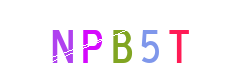5: (99, 0, 179, 80)
B: (83, 0, 163, 80)
N: (35, 0, 115, 80)
P: (81, 0, 161, 80)
T: (138, 0, 218, 80)
